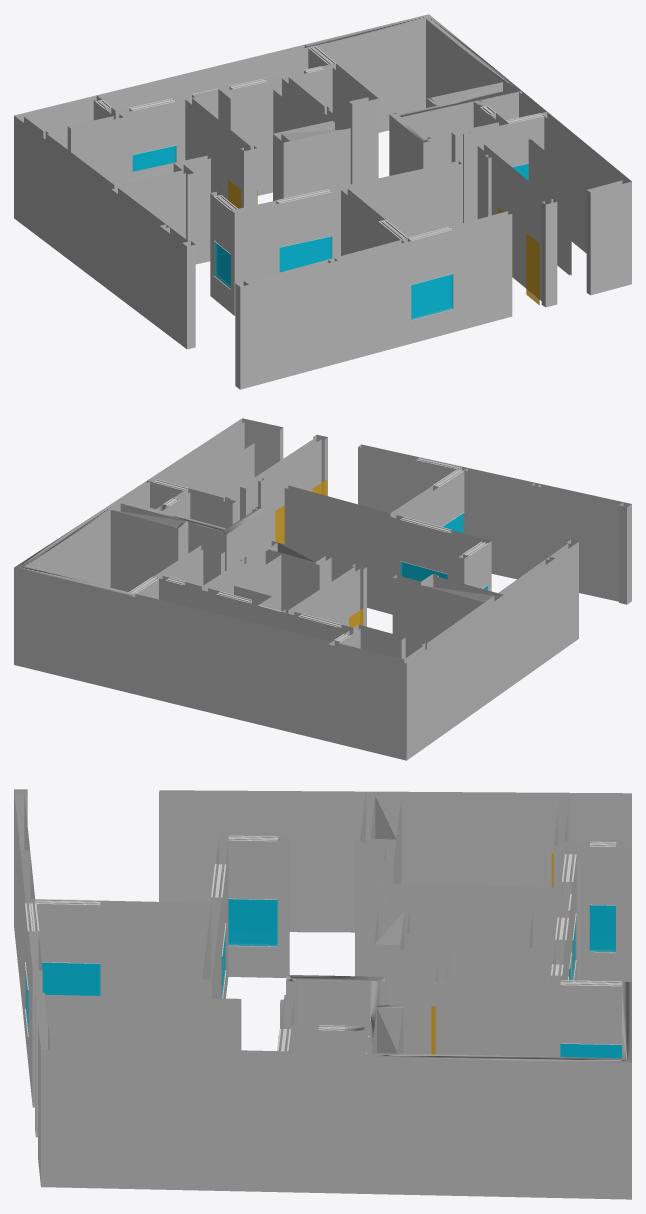
Rendered from 6911e1c7-1c8d-4918-b359-5729c953aff3.glb.
3 renders of one model, top to bottom at view 1: azimuth 30°, elevation 25°; view 2: azimuth 150°, elevation 25°; view 3: azimuth 270°, elevation 25°, orthographic. The views are drawn at different scales.
Parts seen in each view (by area): view 1: walls, windows, roof, doors; view 2: walls, roof, windows, doors; view 3: walls, windows, roof.
Boxes of the visible parts, x1=… form: walls: x1=14, y1=19, x2=631, y2=389; windows: x1=132, y1=145, x2=528, y2=319; roof: x1=305, y1=14, x2=521, y2=142; doors: x1=228, y1=179, x2=539, y2=305; walls: x1=14, y1=418, x2=631, y2=760; roof: x1=14, y1=499, x2=264, y2=596; windows: x1=400, y1=513, x2=487, y2=590; doors: x1=275, y1=479, x2=363, y2=627; walls: x1=14, y1=789, x2=631, y2=1199; windows: x1=25, y1=899, x2=621, y2=1058; roof: x1=286, y1=975, x2=631, y2=1062.
Bounding box in the file's own units: 14.99 × 3.5 × 14.32.
